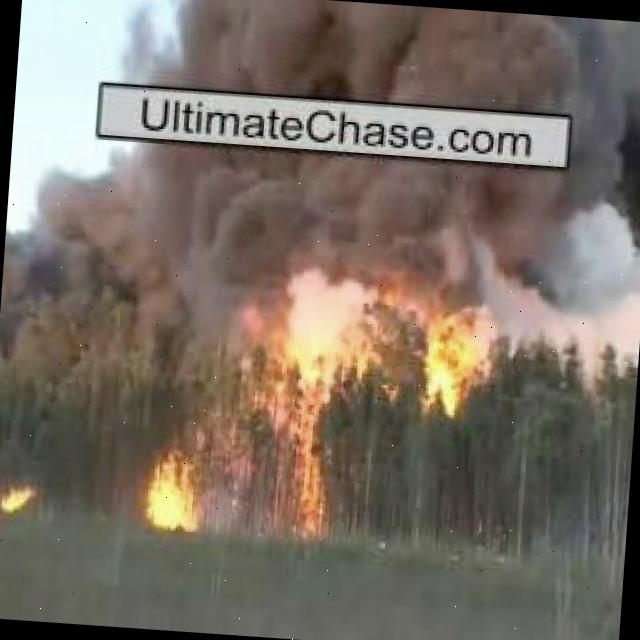fire: (408, 296, 504, 420), (282, 357, 346, 540), (141, 444, 212, 534), (0, 481, 44, 519)
